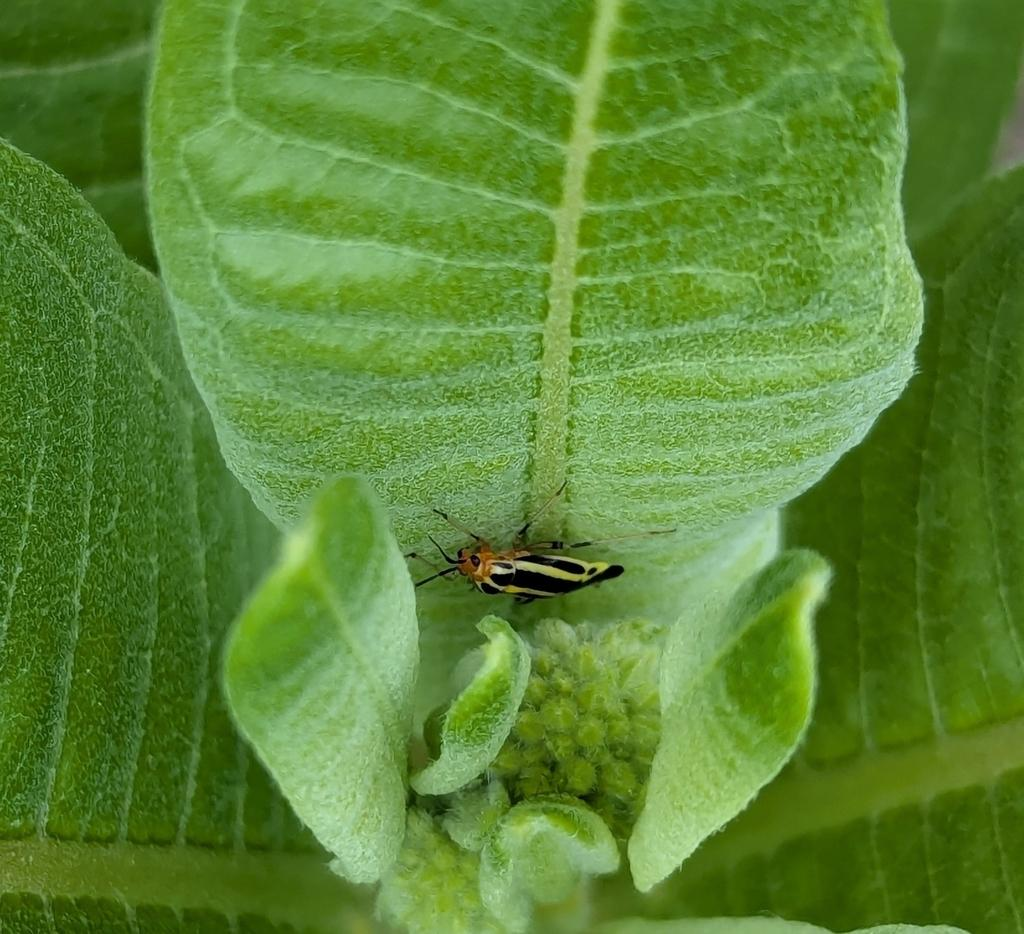plant_bugs: (376, 464, 690, 666)
